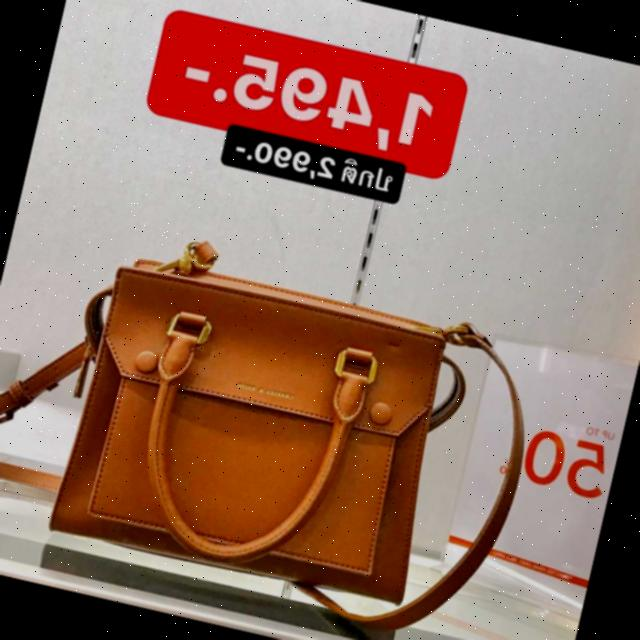Handbag: (43, 244, 466, 612)
